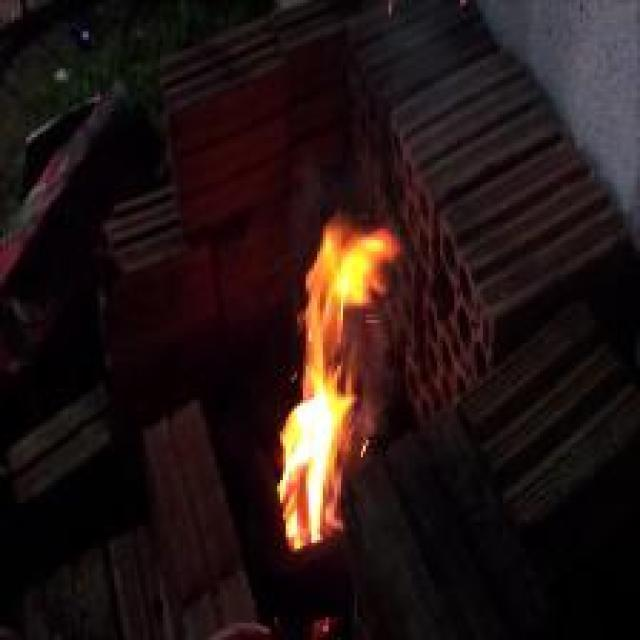Fire: (273, 220, 402, 550)
